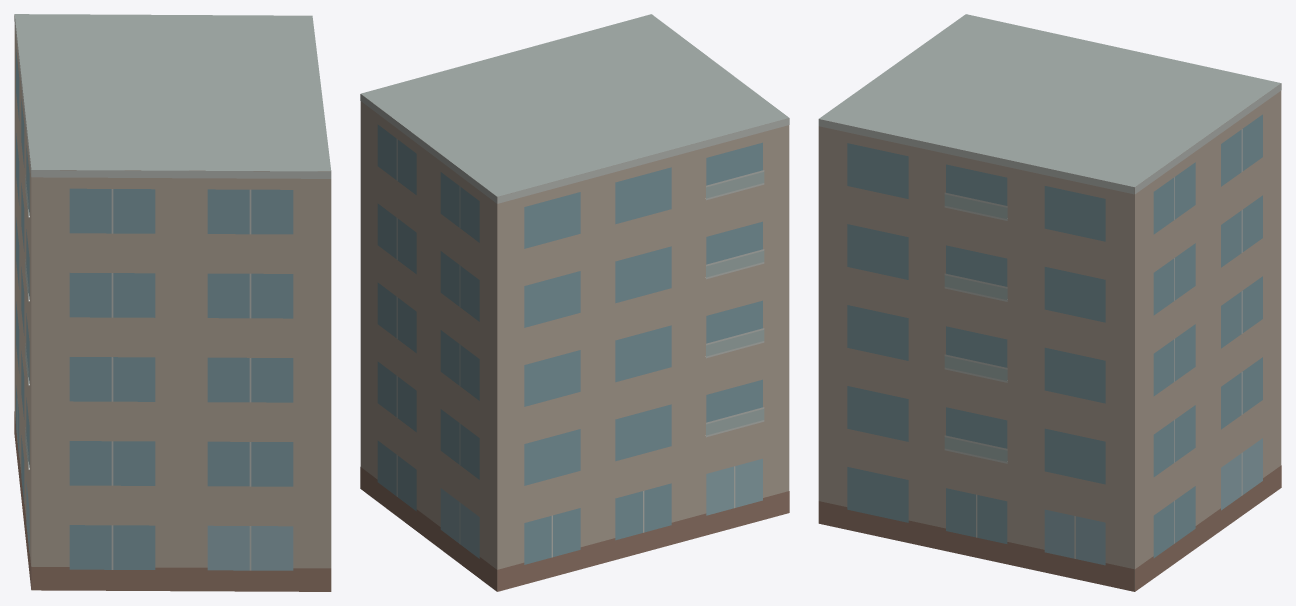
Rendered from survey-upis-32666064.glb.
3 renders of one model, left to right at view 1: azimuth 30°, elevation 25°; view 2: azimuth 150°, elevation 25°; view 3: azimuth 270°, elevation 25°, orthographic. The views are drawn at different scales.
Visible parts, largest first — view 1: survey-upis-32666064.tmp; view 2: survey-upis-32666064.tmp; view 3: survey-upis-32666064.tmp.
Part boxes in pixels (x1,y1,x2,y2): survey-upis-32666064.tmp: [14, 14, 331, 591]; survey-upis-32666064.tmp: [360, 14, 789, 591]; survey-upis-32666064.tmp: [818, 14, 1281, 591].
Size of the model in its own units: 12.5 by 13.6 by 14.11.
